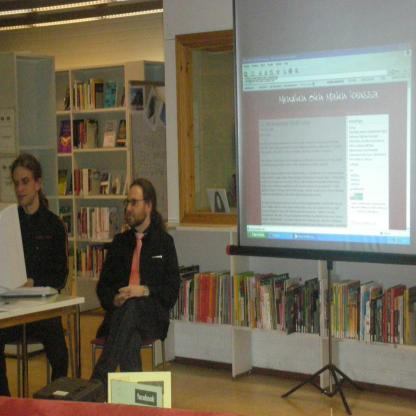book: (318, 274, 416, 346), (232, 268, 320, 335), (172, 260, 232, 325), (72, 76, 127, 113), (72, 115, 128, 146), (74, 169, 133, 195), (77, 203, 119, 238), (77, 242, 116, 277), (58, 118, 72, 156), (58, 206, 74, 237), (60, 89, 72, 112), (58, 169, 69, 194)
